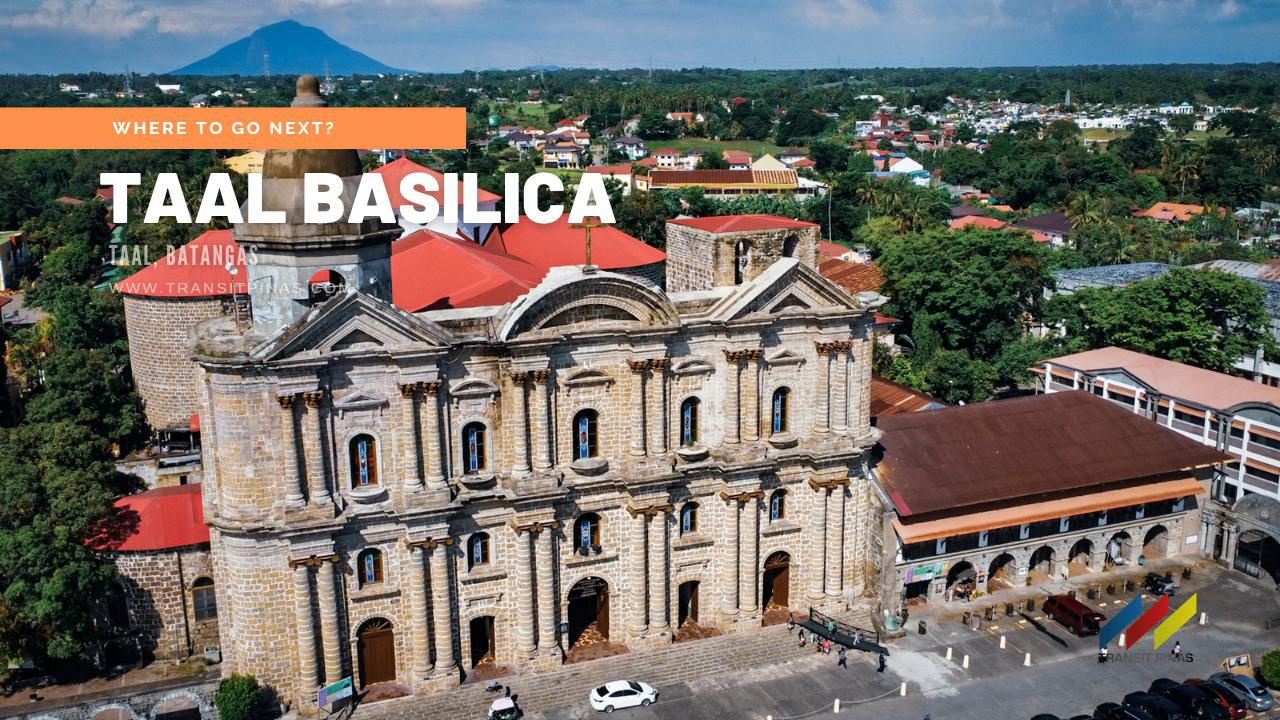taal_basilica_church_taal_batangas: (171, 71, 899, 703)
